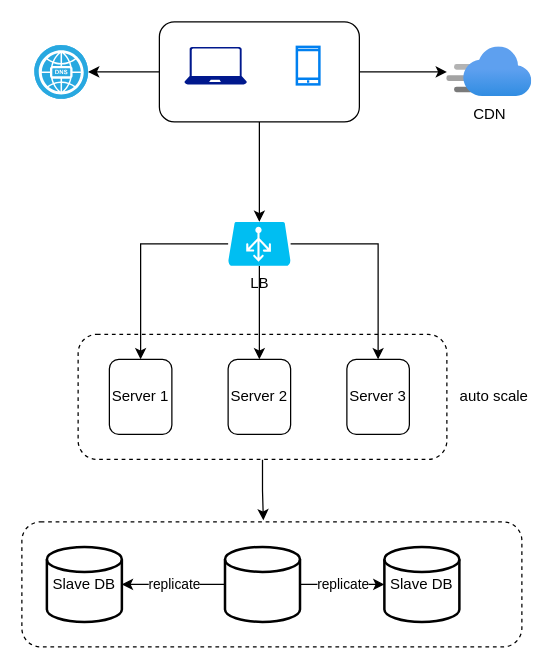
Image size: 554x669. Some labels were removed from this diagram. The centre of each missing label's shape, as x and y in pixels:
"Master DB" goes at point (262, 583).
"Mobile app" goes at point (307, 65).
"Web" goes at point (215, 65).
